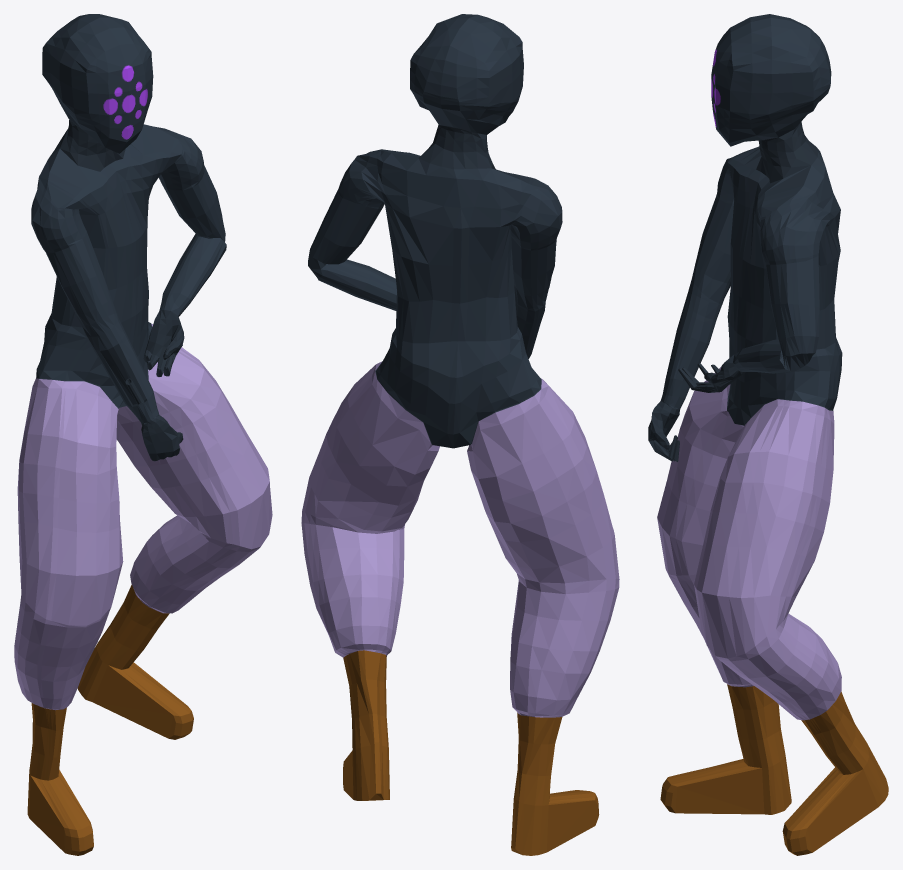
The model's file is Oracle_WR_000020.obj.
The picture shows the model from 3 angles, left to right: view 1: azimuth 30°, elevation 25°; view 2: azimuth 150°, elevation 25°; view 3: azimuth 270°, elevation 25°; orthographic projection. The views are drawn at different scales.
Visible parts, largest first — view 1: Cube; view 2: Cube; view 3: Cube.
Part boxes in pixels (x1,y1,x2,y2): Cube: [14, 14, 272, 855]; Cube: [301, 14, 619, 855]; Cube: [648, 14, 888, 855].
Size of the model in its own units: 1.39 by 3.84 by 1.02.
